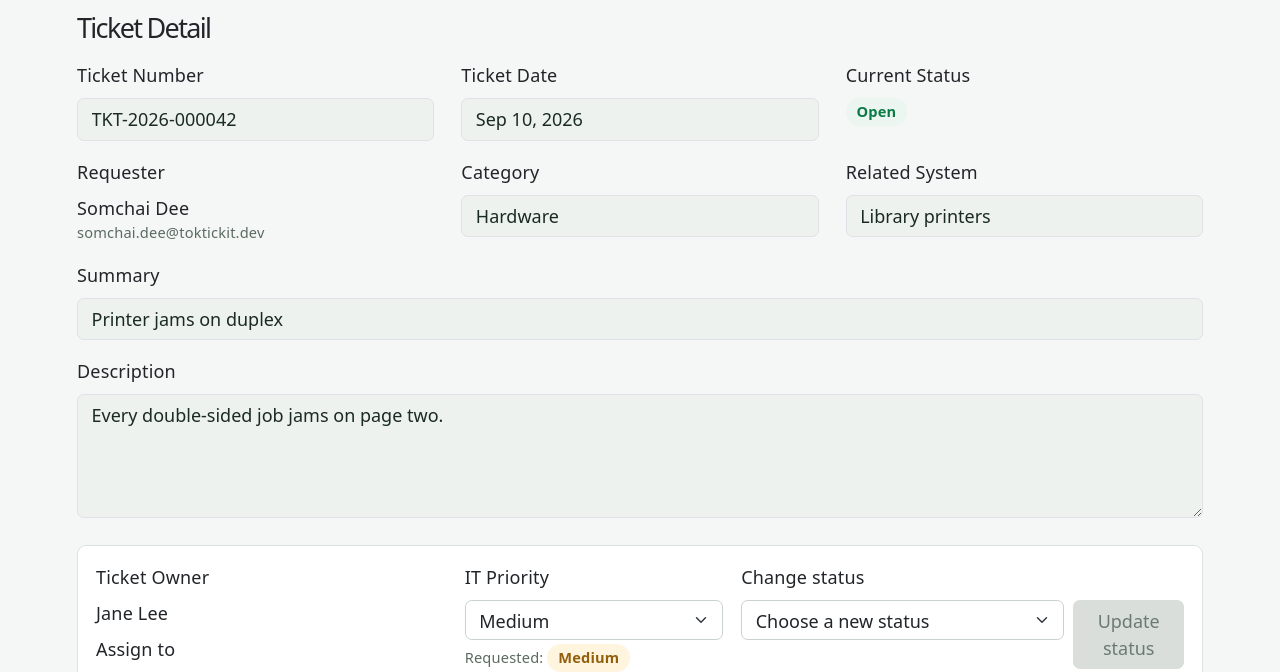
it: StaffTicketDetail › status › lets the owner change status and shows the new status
Select "In Progress" in the dropdown labelled "Change status" at (903, 620), box [741, 600, 1064, 640]
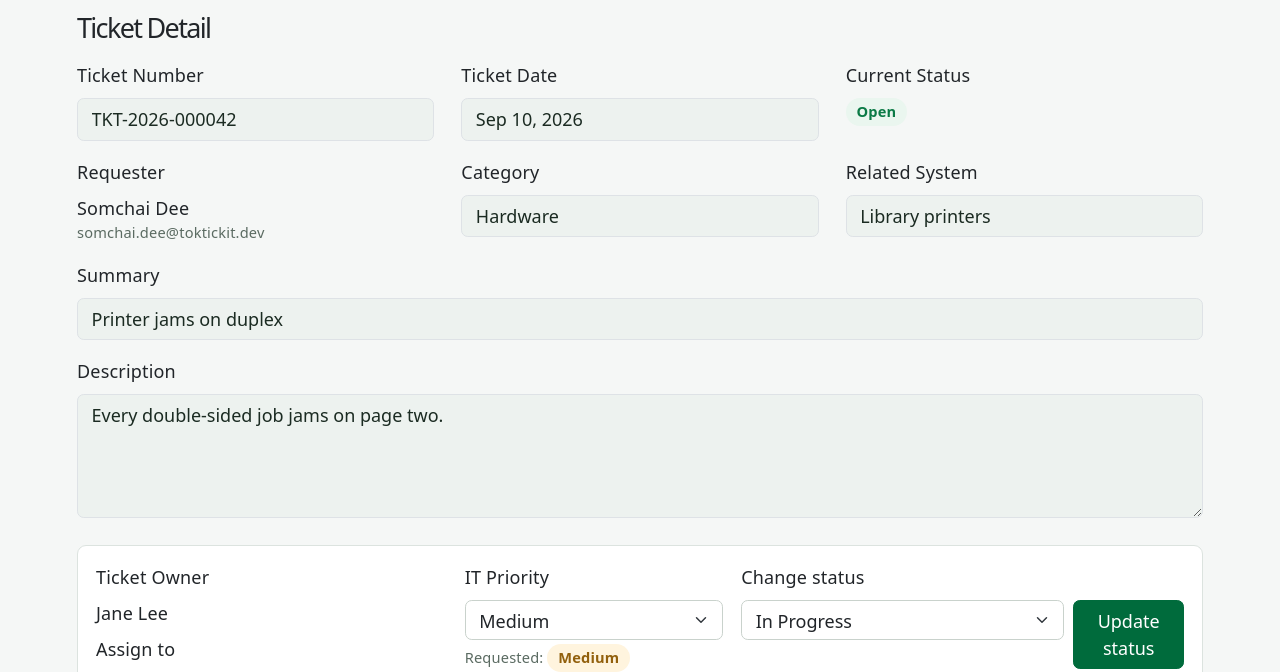
Click the button "Update status" at (1129, 635), box [1073, 600, 1184, 669]
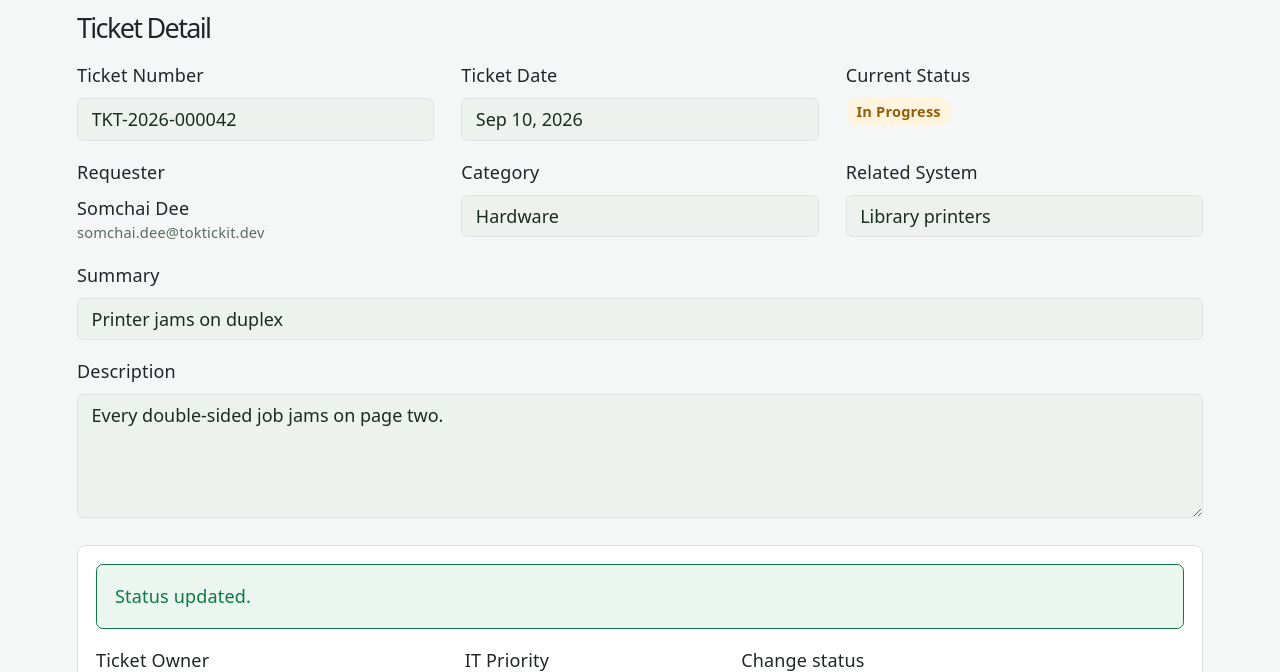
Expected: the message shows "Status updated", [115, 584, 251, 608]
Expected: the text "In Progress" is shown, [846, 98, 952, 126]
